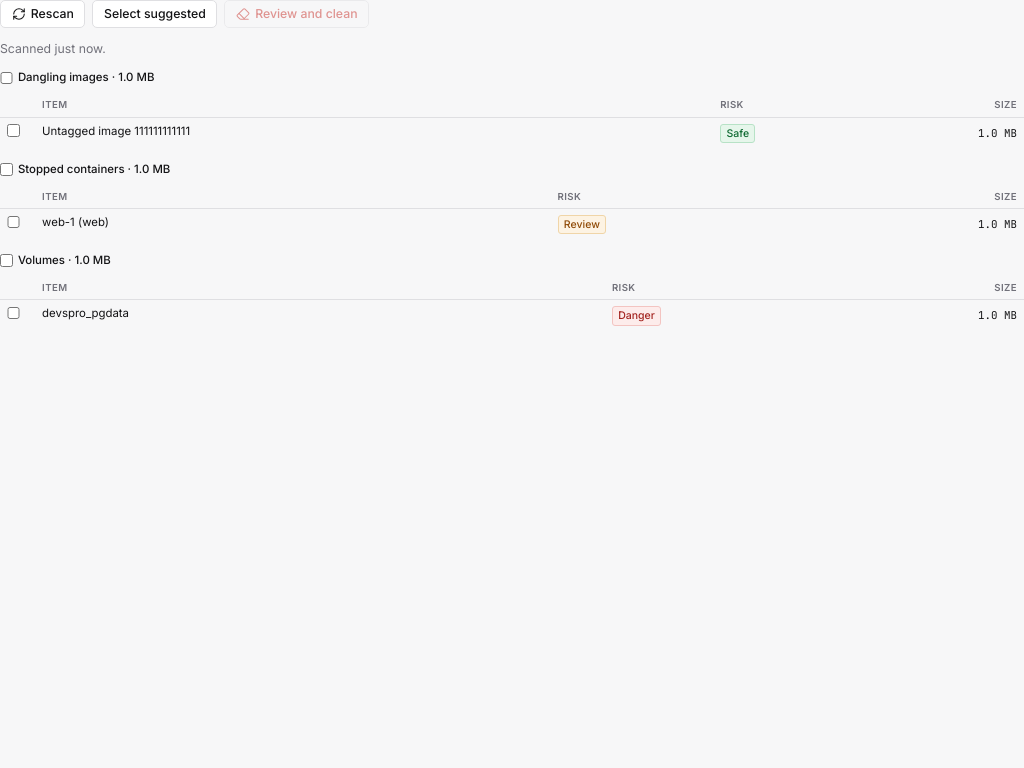
Test: DockerTab › makes the user type a protected volume's name, then reports it as confirmed
This screenshot has width=1024, height=768.
Expected: the text "devspro_pgdata" is shown, [42,306,129,320]
Click the checkbox named "Select devspro_pgdata": (13,313) [7,307,20,319]
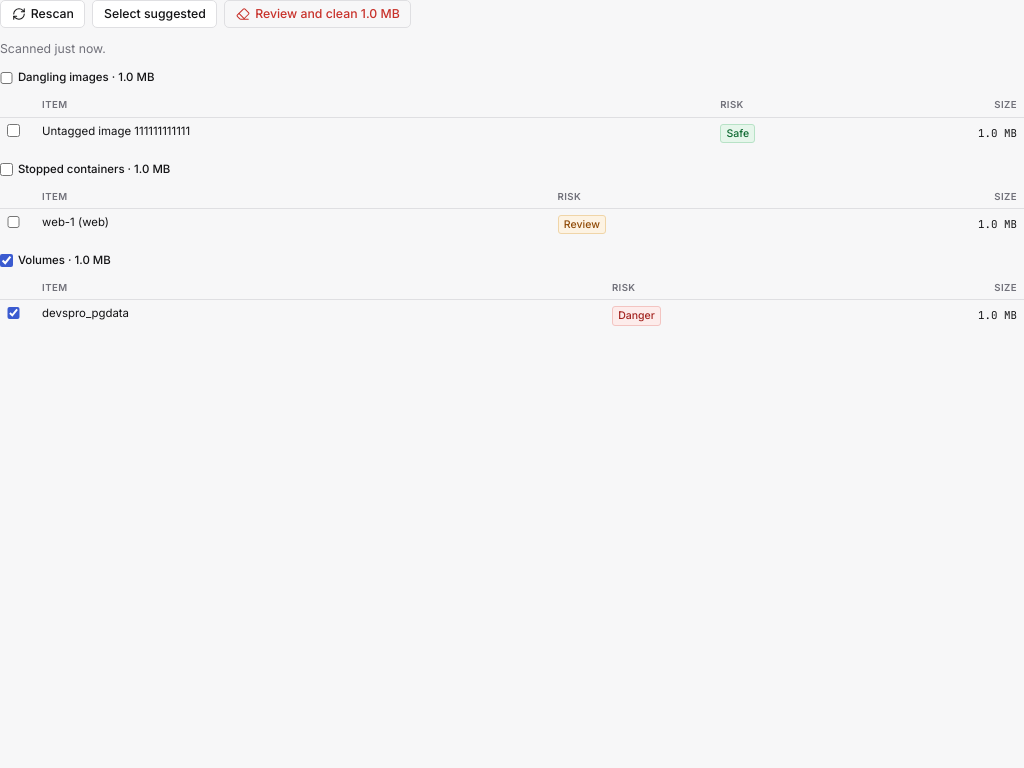
Click the button "Review and clean 1.0 MB": (318,14) [224,0,411,28]
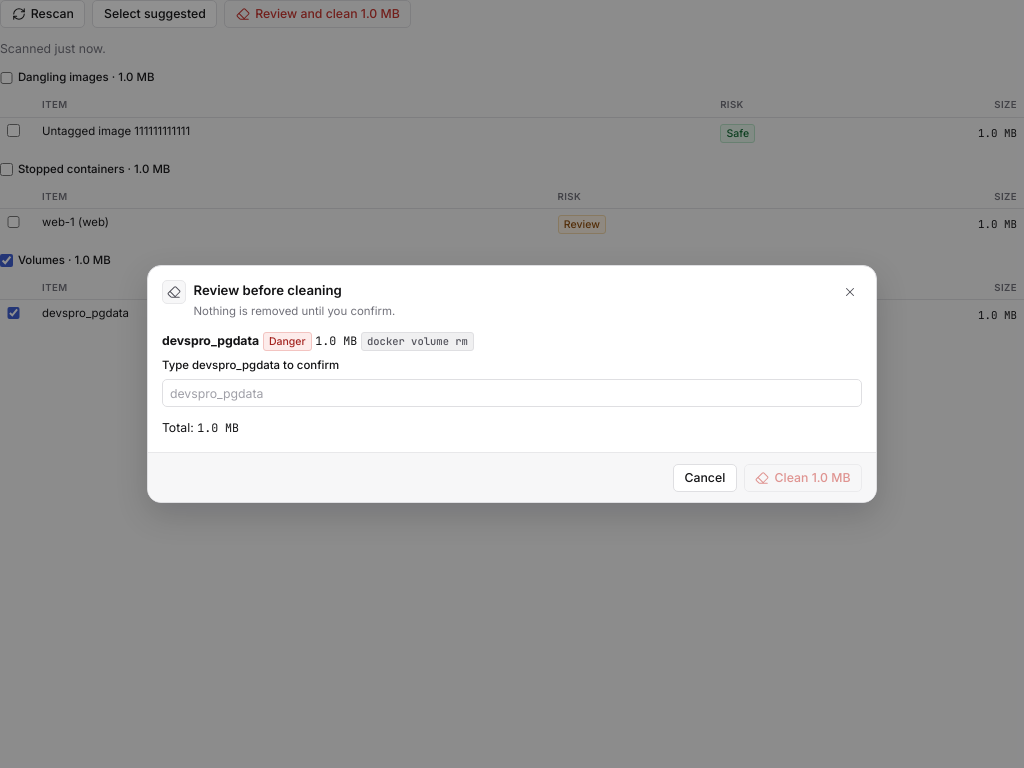
Now the button "Clean 1.0 MB" is disabled, box [744,464,862,492]
In the field with placeholder "devspro_pgdata": (512,393) [162,379,862,408], type "devspro_pg"
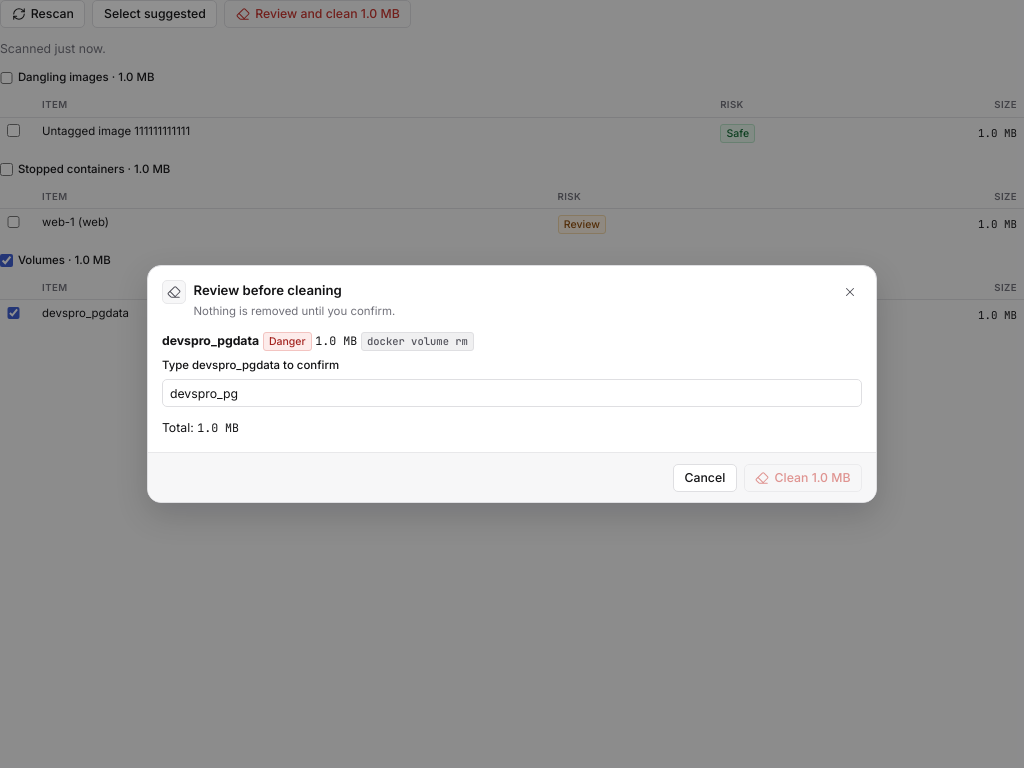
Now the button "Clean 1.0 MB" is disabled, box [744,464,862,492]
Replace the text in the field with placeholder "devspro_pgdata" with "devspro_pgdata": (512,393) [162,379,862,408]
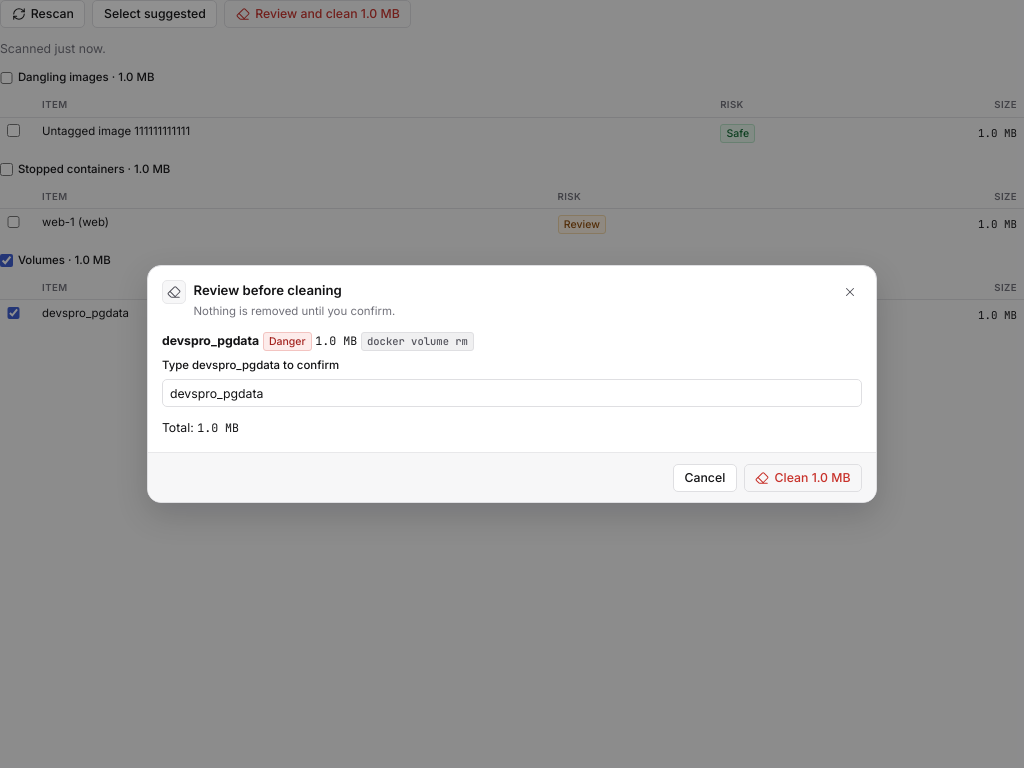
Now the button "Clean 1.0 MB" is enabled
Click the button "Clean 1.0 MB": (803,478) [744,464,862,492]
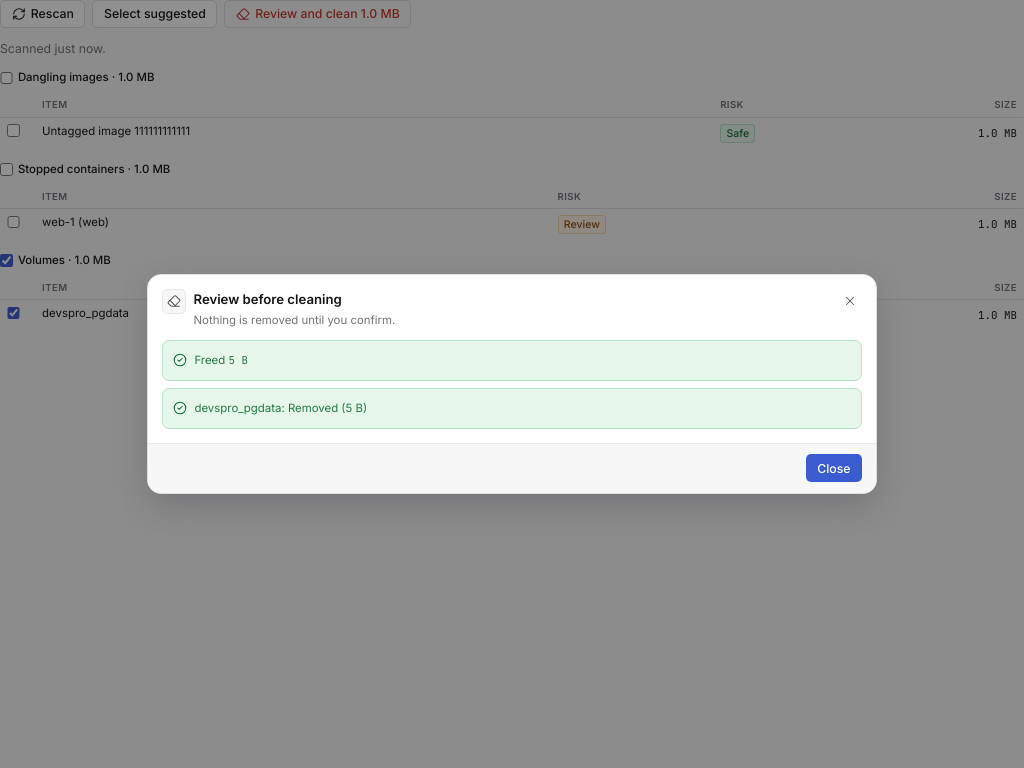
Now the text "devspro_pgdata: Removed (5 B)" is shown, box [194,401,367,415]
